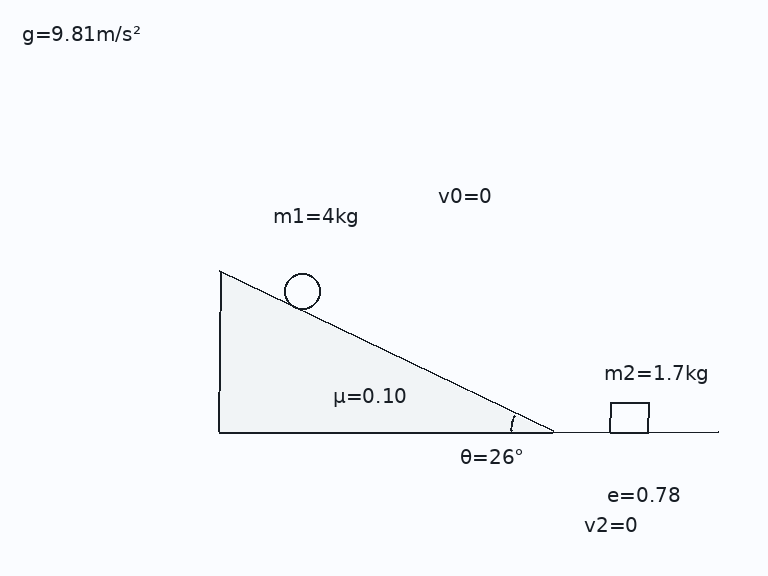ball: (282, 271, 322, 311)
block: (607, 401, 651, 434)
ramp: (218, 269, 553, 434)
